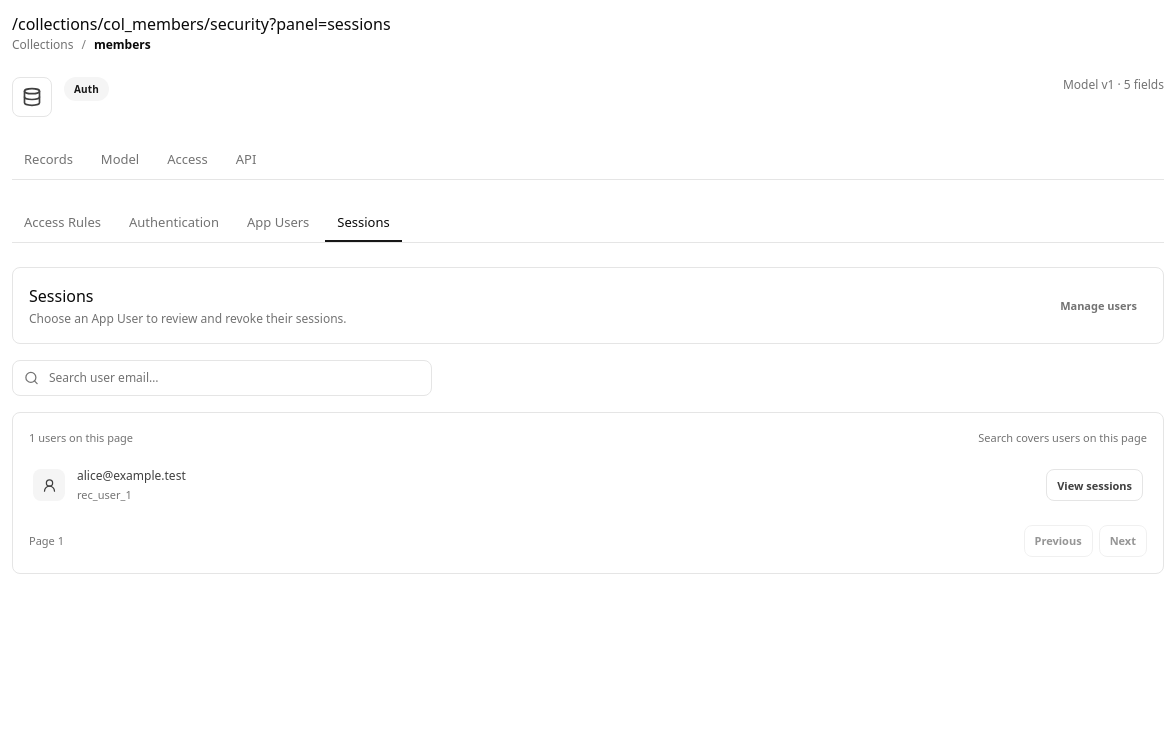
Test: Collection Records and Security pages › shows user sessions and requires explicit confirmation before revoking one
Click the button "View sessions": (1095, 485) [1046,469,1143,501]
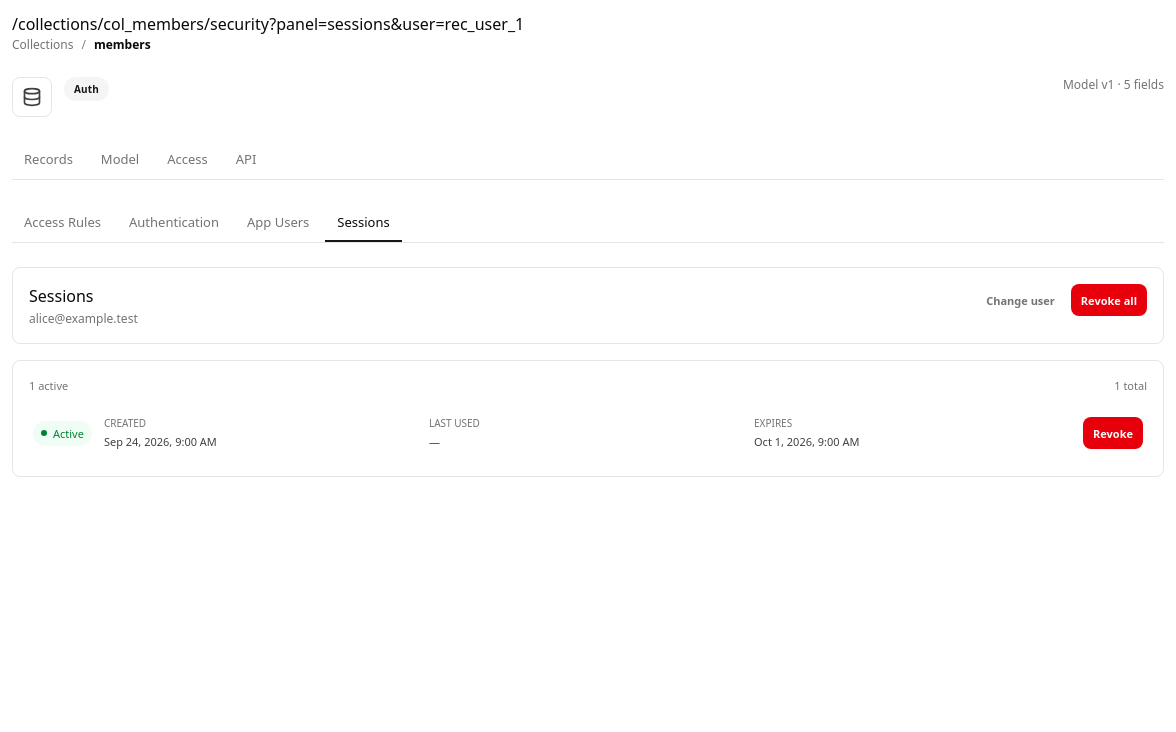
Now the text "alice@example.test" is shown, box [29,311,138,327]
Now the text "Active" is shown, box [33,421,92,446]
Click the button "Revoke": (1113, 433) [1083,417,1143,449]
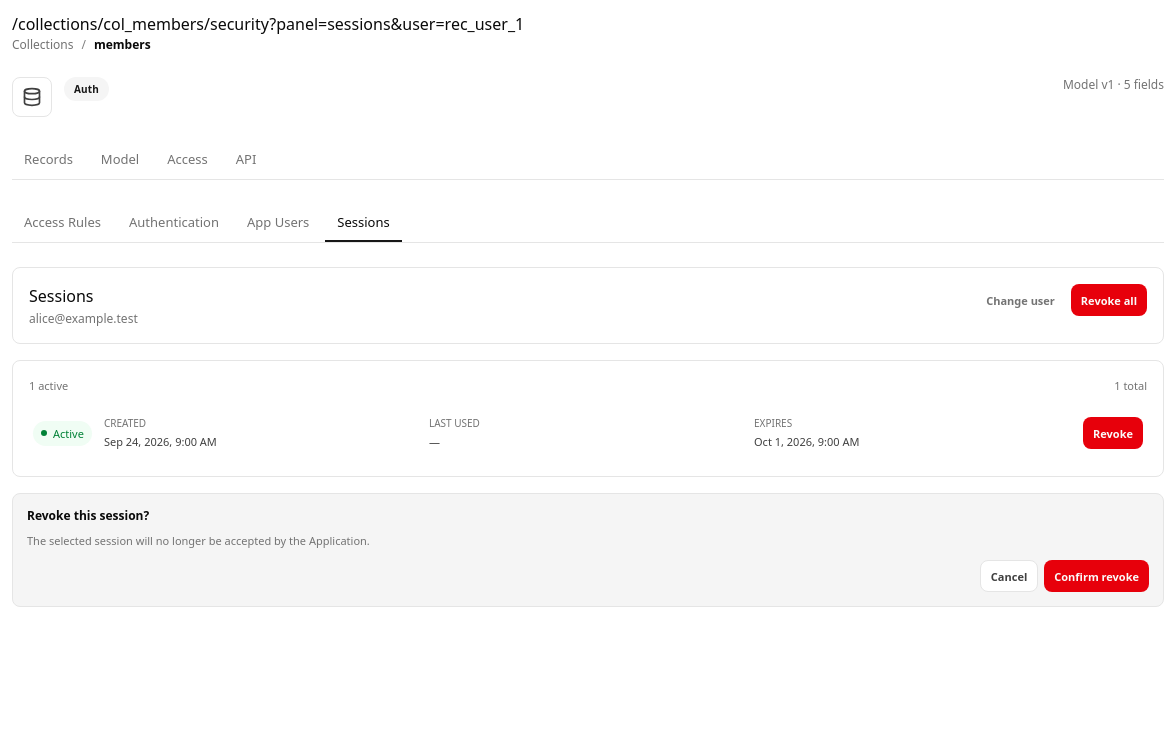
Now the message shows "Revoke this session?", box [27,508,149,524]
Click the button "Confirm revoke": (1097, 576) [1044,560,1149,592]
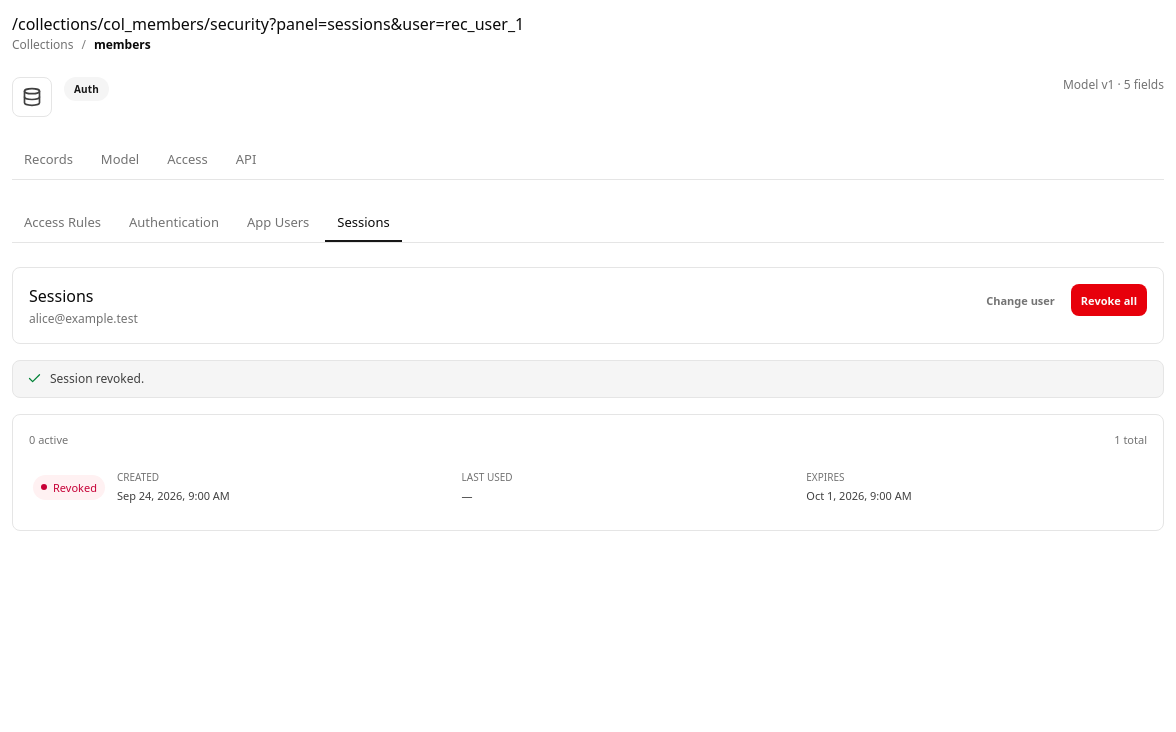
Now the text "Session revoked." is shown, box [12,360,1164,398]
Now the text "Revoked" is shown, box [33,475,105,500]
